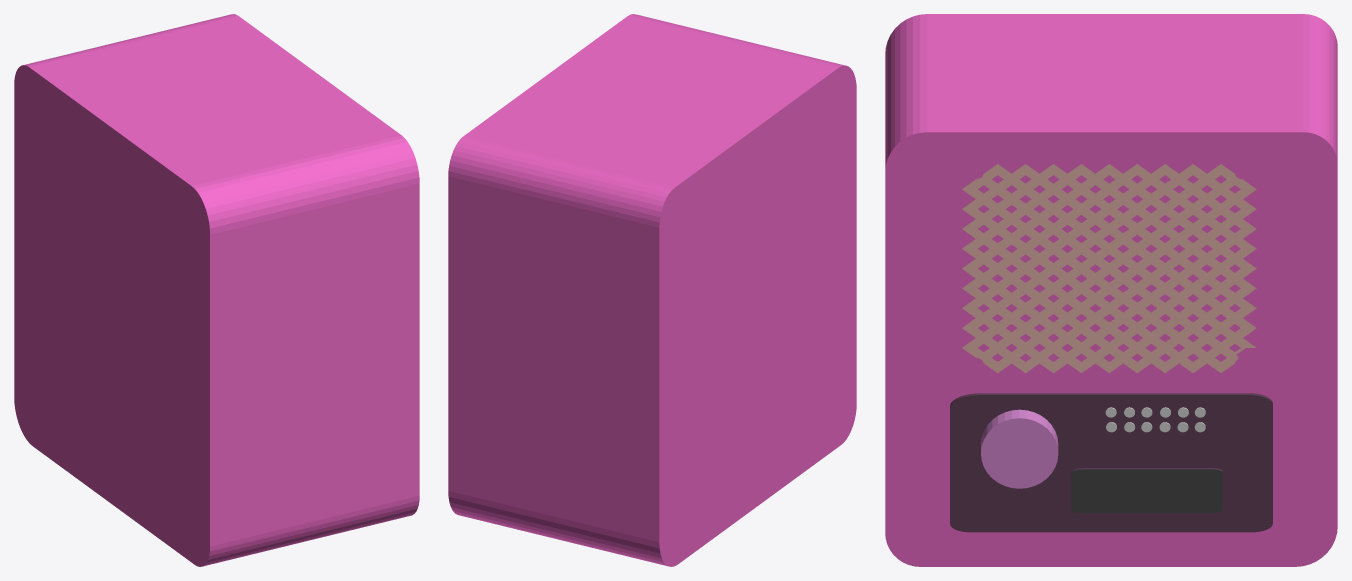
The model's file is Radio.fbx.
3 renders of one model, left to right at view 1: azimuth 30°, elevation 25°; view 2: azimuth 150°, elevation 25°; view 3: azimuth 270°, elevation 25°, orthographic. The views are drawn at different scales.
Visible parts, largest first — view 1: Cube; view 2: Cube; view 3: Cube, Cube.001, ecran, ecran.001, Cylinder.005.
Boxes of the visible parts, x1,y1,x2,y2 form: Cube: [14, 14, 419, 566]; Cube: [448, 14, 856, 566]; Cube: [885, 14, 1337, 566]; Cube.001: [962, 164, 1256, 373]; ecran: [950, 393, 1272, 532]; ecran.001: [1071, 468, 1222, 512]; Cylinder.005: [981, 409, 1058, 488].
Size of the model in its own units: 81.92 by 129 by 121.
